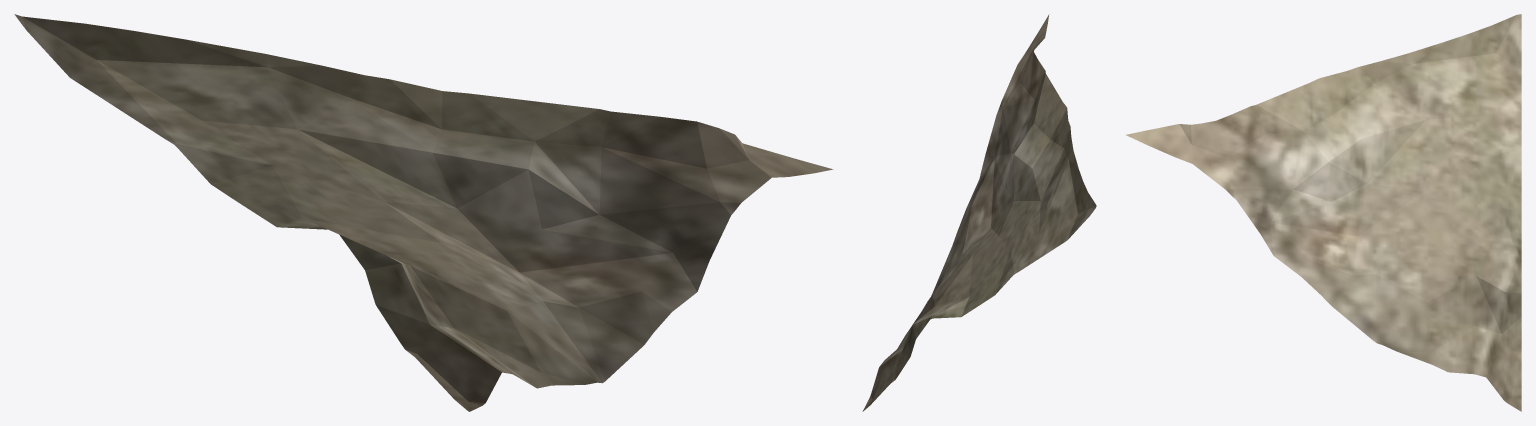
The picture shows the model from 3 angles, left to right: view 1: azimuth 30°, elevation 25°; view 2: azimuth 150°, elevation 25°; view 3: azimuth 270°, elevation 25°; orthographic projection. The views are drawn at different scales.
Size of the model in its own units: 0.9139 by 0.9763 by 1.27.
1 material, 1 textured.
